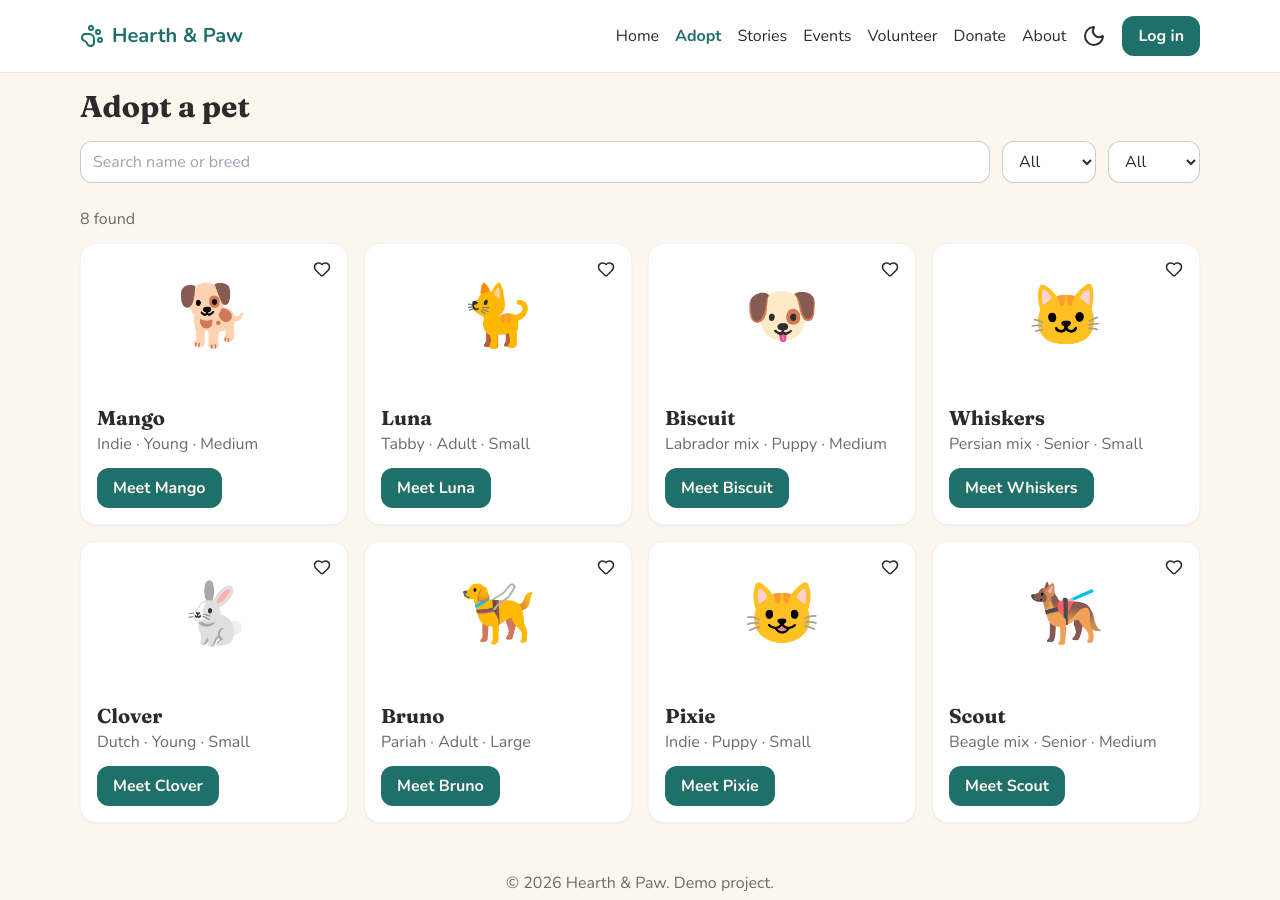
Scenario: search filters pets
This screenshot has width=1280, height=900.
Type "mango" into the field with placeholder "Search name or breed" at (535,162), box [80,141,990,183]
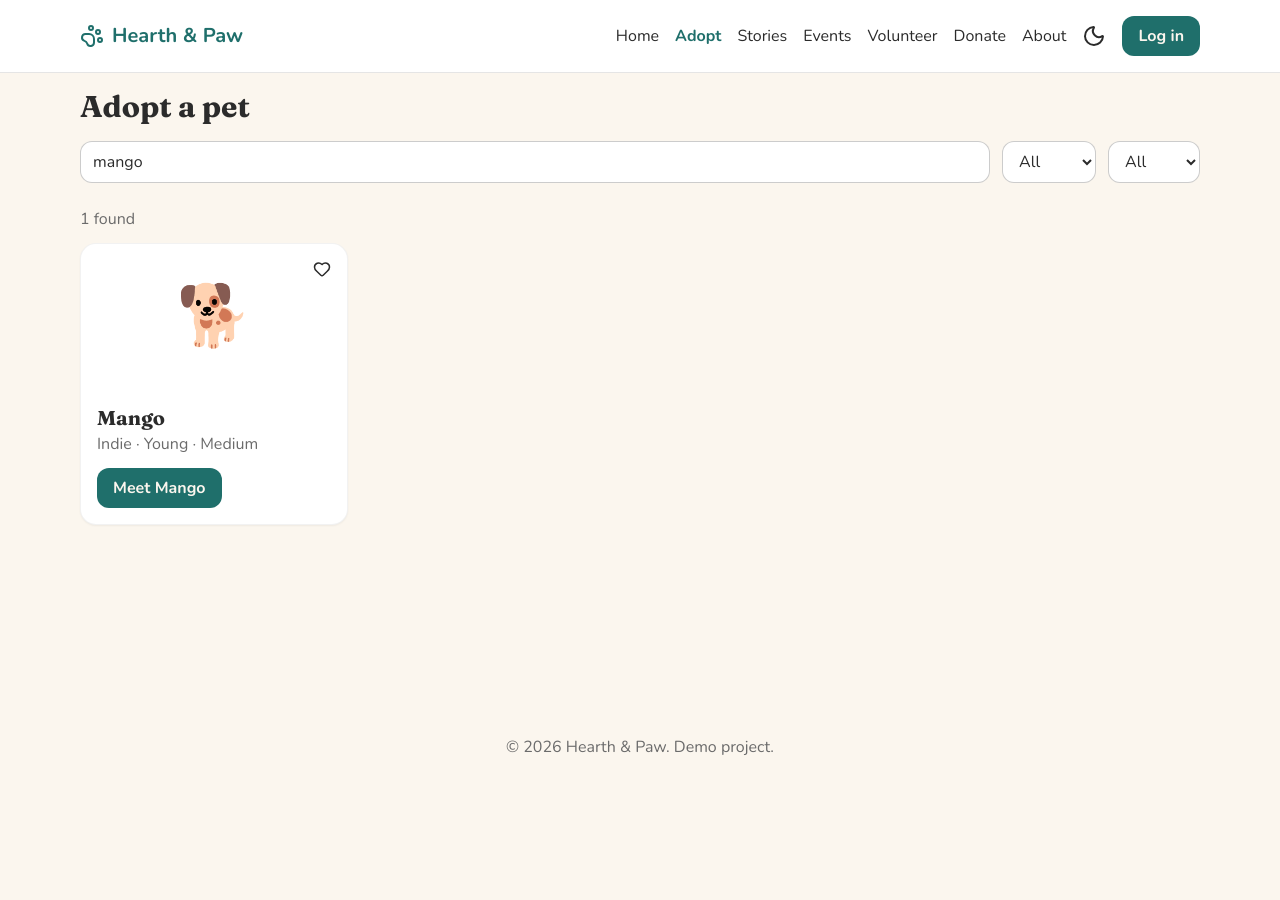
Expected: the heading "Mango" is shown, [97,405,165,430]
Expected: the heading "Luna" is gone
